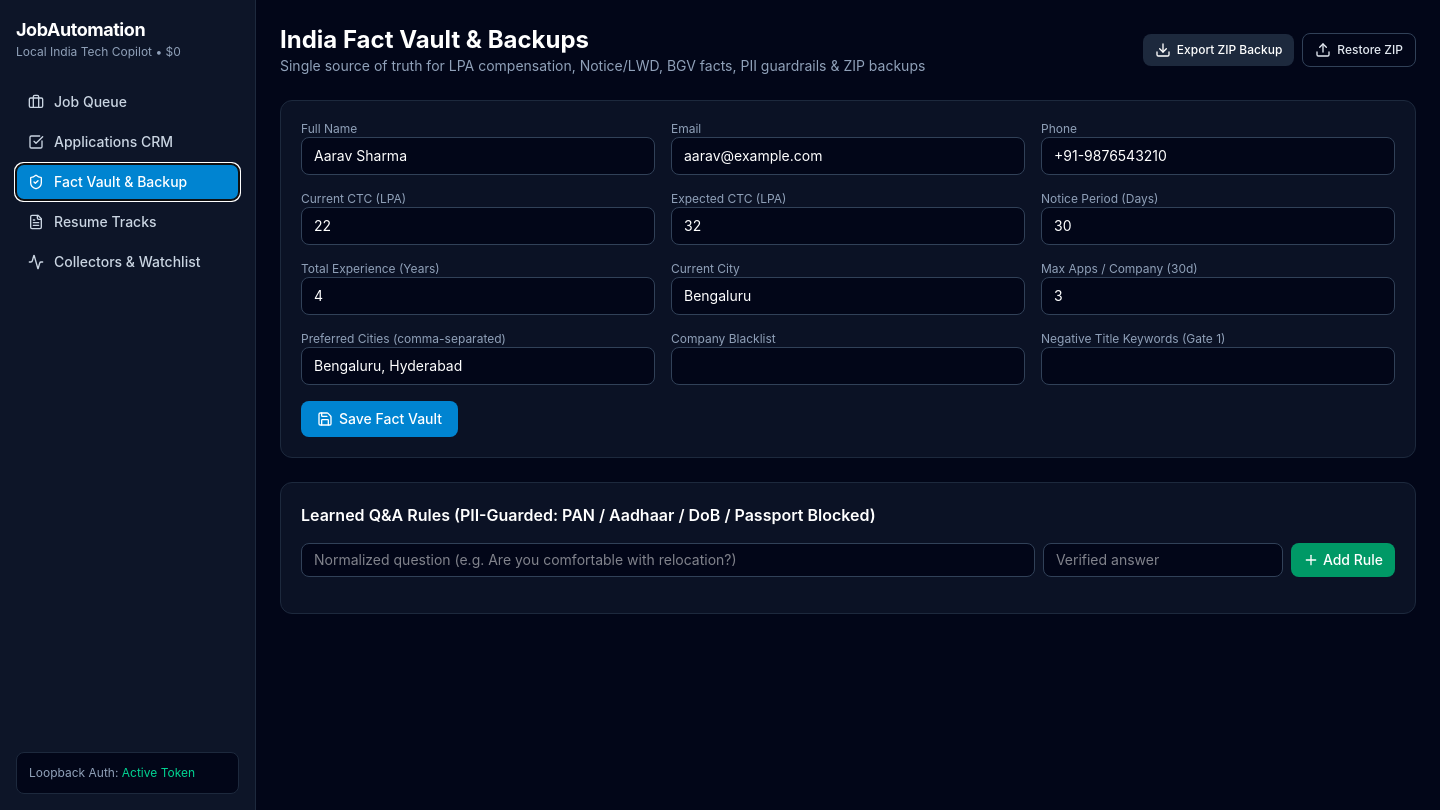
JobAutomation Dashboard (Cycle 5) › displays Offline Snapshot viewer in ApplicationsPage and saves FactVaultPage
The image size is (1440, 810).
Earlier steps of the test are not shown.
expect the field showing "Aarav Sharma" is shown: met, box left=301, top=137, right=655, bottom=175
Click the button "Save Fact Vault". click: click(380, 419)
box: left=301, top=401, right=458, bottom=437
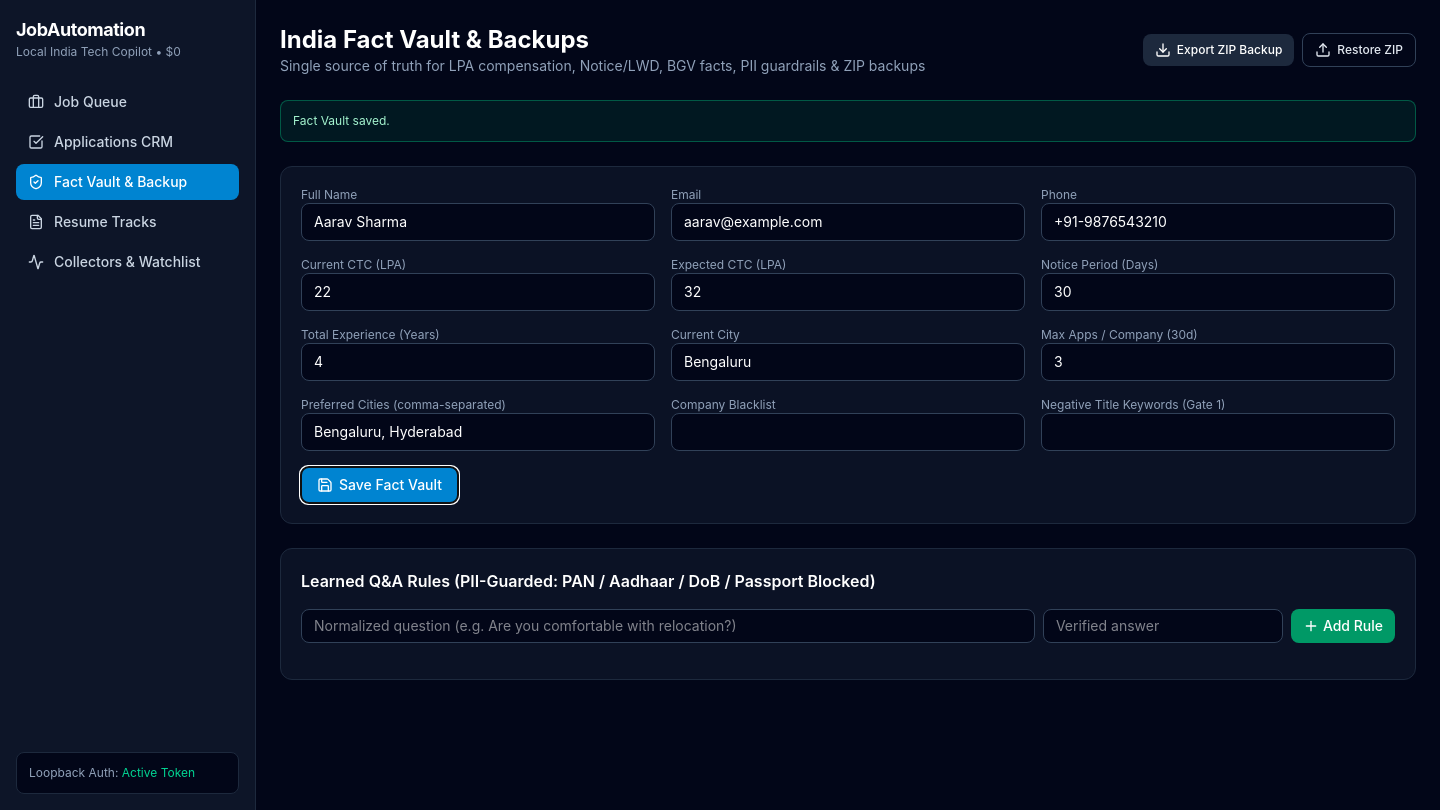
expect the text "Fact Vault saved." is shown: met, box left=280, top=100, right=1416, bottom=142
